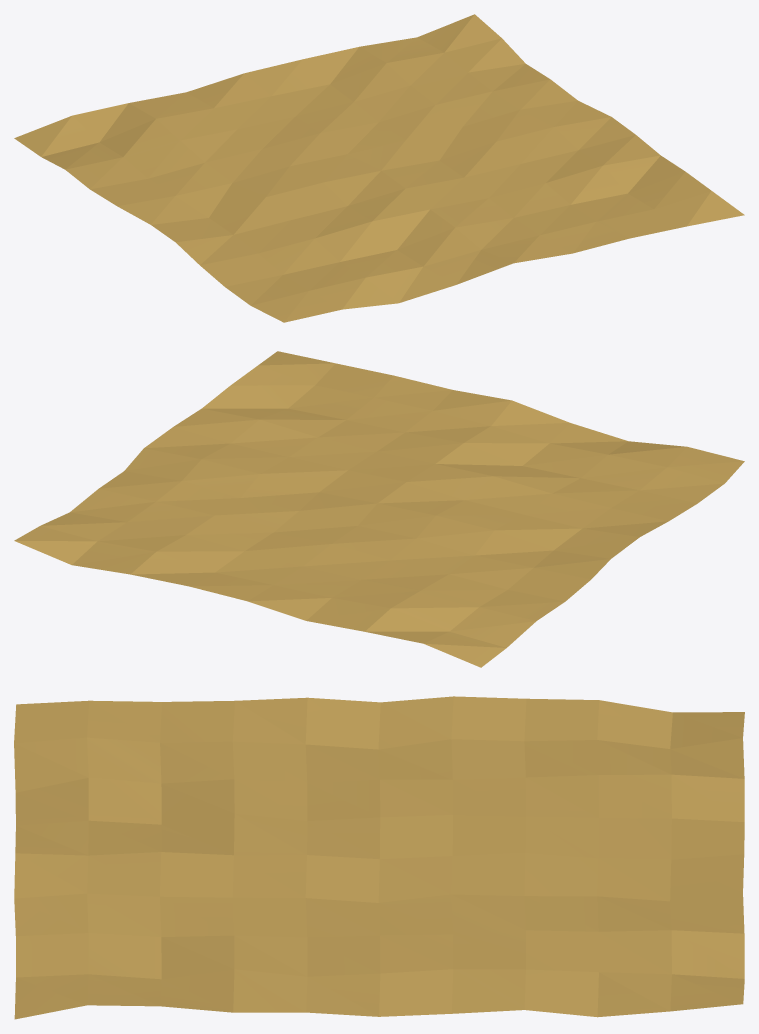
Rendered from sand.FBX.
3 views of the same model, one above another, from view 1: azimuth 30°, elevation 25°; view 2: azimuth 150°, elevation 25°; view 3: azimuth 270°, elevation 25° (orthographic). The views are drawn at different scales.
Visible parts, largest first — view 1: sand; view 2: sand; view 3: sand.
Part boxes in pixels (box(x1,y1,x2,y2)): sand: box(14, 14, 744, 322); sand: box(14, 351, 744, 667); sand: box(14, 696, 744, 1019).
Size of the model in its own units: 315 by 8.03 by 309.
